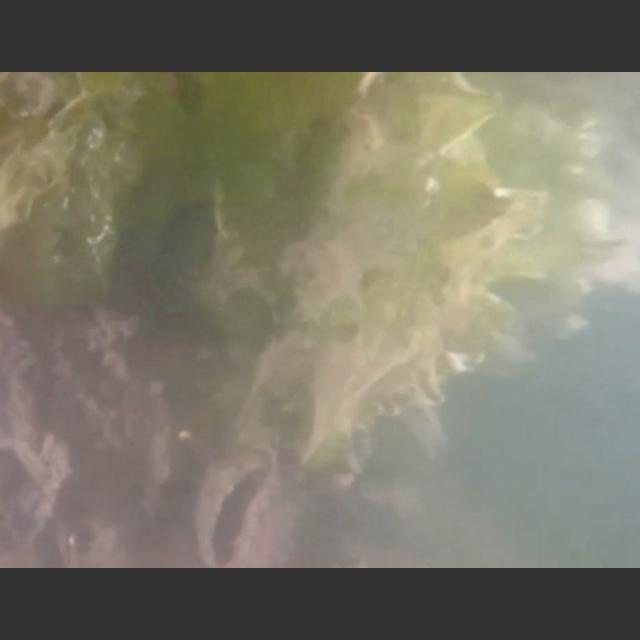Oyster-Open: (190, 444, 278, 568)
